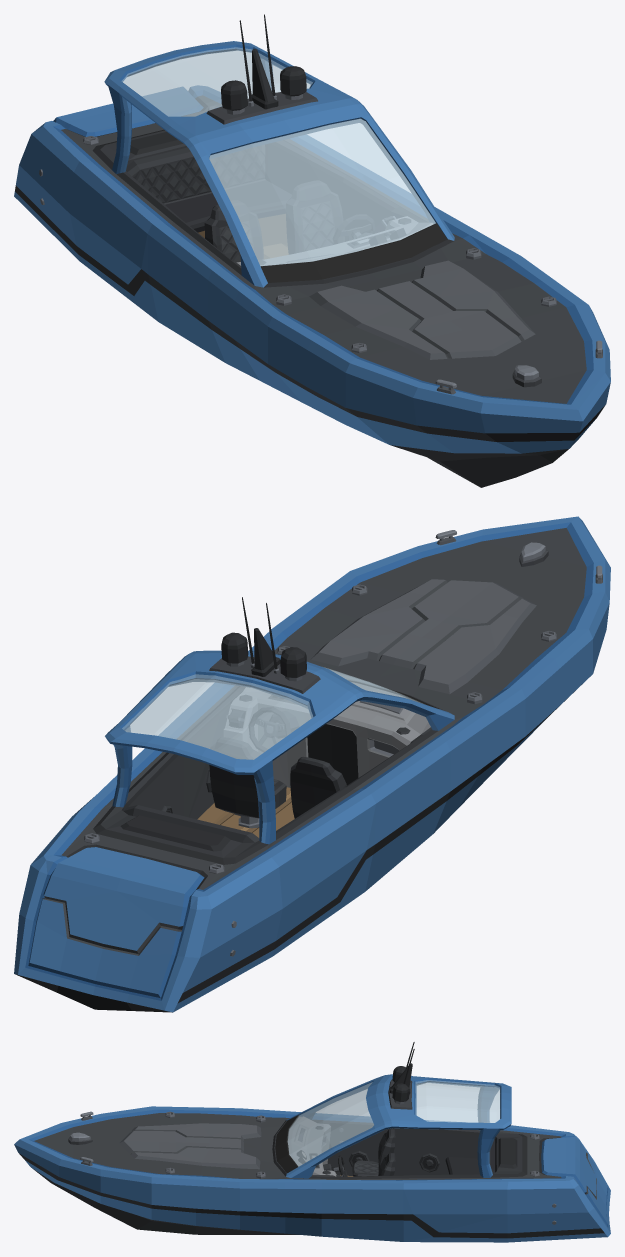
The model's file is sc-boat.glb.
The picture shows the model from 3 angles, top to bottom: view 1: azimuth 30°, elevation 25°; view 2: azimuth 150°, elevation 25°; view 3: azimuth 270°, elevation 25°; orthographic projection. The views are drawn at different scales.
Visible parts, largest first — view 1: SM_Veh_Power_Boat_01, SM_Veh_Power_Boat_01_Roof_Glass, SM_Veh_Power_Boat_01_Roof; view 2: SM_Veh_Power_Boat_01, SM_Veh_Power_Boat_01_Roof, SM_Veh_Power_Boat_01_Roof_Glass, SM_Veh_Power_Boat_01_Steering_Wheel; view 3: SM_Veh_Power_Boat_01, SM_Veh_Power_Boat_01_Roof, SM_Veh_Power_Boat_01_Roof_Glass.
Part boxes in pixels (x1,y1,x2,y2): SM_Veh_Power_Boat_01: [14, 85, 610, 487]; SM_Veh_Power_Boat_01_Roof_Glass: [121, 47, 435, 266]; SM_Veh_Power_Boat_01_Roof: [104, 14, 454, 287]; SM_Veh_Power_Boat_01: [14, 516, 610, 1012]; SM_Veh_Power_Boat_01_Roof: [105, 597, 454, 844]; SM_Veh_Power_Boat_01_Roof_Glass: [122, 667, 422, 759]; SM_Veh_Power_Boat_01_Steering_Wheel: [249, 707, 290, 752]; SM_Veh_Power_Boat_01: [14, 1106, 610, 1242]; SM_Veh_Power_Boat_01_Roof: [275, 1042, 511, 1178]; SM_Veh_Power_Boat_01_Roof_Glass: [287, 1080, 500, 1166].
Bounding box in the file's own units: 4.23 × 4.91 × 14.
2 materials, 1 textured.
